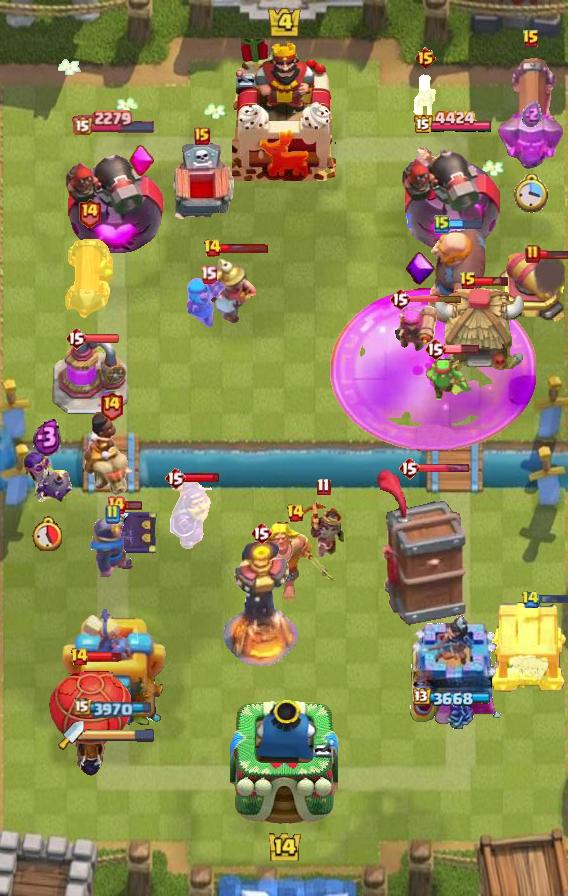balloon: (421, 224, 489, 326)
bandit: (199, 253, 257, 323)
bar: (62, 601, 166, 731)
battle-healer: (65, 233, 113, 323)
bomb: (488, 599, 568, 693)
bomber-evolution: (302, 500, 347, 558)
cannon-cart: (48, 658, 134, 776)
dart-goblin: (377, 468, 468, 626)
electro-dragon: (222, 541, 300, 669)
electro-spirit: (34, 418, 62, 456), (522, 101, 543, 127)
elite-barbarian: (83, 411, 139, 499)
elixir: (515, 174, 550, 214), (32, 517, 62, 551)
elixir-golem-mid: (167, 142, 237, 228)
emote: (418, 462, 470, 473), (219, 243, 269, 254), (449, 217, 484, 231), (409, 293, 463, 302), (444, 343, 480, 355), (86, 651, 122, 663), (474, 275, 509, 287), (184, 472, 221, 483), (84, 332, 120, 343), (540, 248, 568, 260), (537, 595, 567, 606), (124, 500, 143, 511)
firecracker: (90, 513, 134, 579)
firecracker-evolution: (170, 480, 212, 550)
furnace: (497, 54, 565, 174)
giant-snowball: (424, 354, 472, 400)
goblin-ball: (20, 449, 74, 505)
goblin-hut: (252, 521, 338, 601)
heal-spirit: (410, 74, 440, 120)
ice-spirit-evolution-symbol: (105, 507, 159, 557)
king-tower: (232, 39, 336, 181), (230, 698, 338, 826)
king-tower-bar: (84, 728, 156, 742)
knight-evolution: (330, 288, 536, 451)
pekka: (52, 334, 130, 416)
prince: (434, 286, 528, 376)
queen-tower: (406, 614, 503, 730)
royal-recruit: (496, 253, 568, 327)
selected: (71, 109, 156, 135), (413, 110, 493, 136), (413, 688, 493, 708), (74, 698, 154, 718)
skeleton-king-skill: (405, 252, 435, 286), (129, 144, 157, 178)
text: (78, 196, 103, 227), (99, 391, 124, 421), (414, 46, 438, 70), (389, 287, 411, 311), (65, 326, 87, 350), (424, 337, 446, 361), (398, 456, 420, 480), (164, 466, 186, 490), (250, 521, 272, 545), (106, 495, 126, 515), (70, 647, 90, 667), (202, 238, 221, 258), (287, 503, 306, 523), (522, 29, 540, 49), (459, 271, 477, 291), (199, 265, 217, 284), (521, 591, 540, 609), (434, 214, 450, 234), (525, 244, 541, 264), (104, 504, 120, 524), (194, 127, 210, 145), (317, 477, 332, 496)
tombstone: (395, 301, 440, 351)
tower-bar: (402, 136, 504, 256), (64, 138, 164, 256)
witch: (185, 277, 231, 329)
